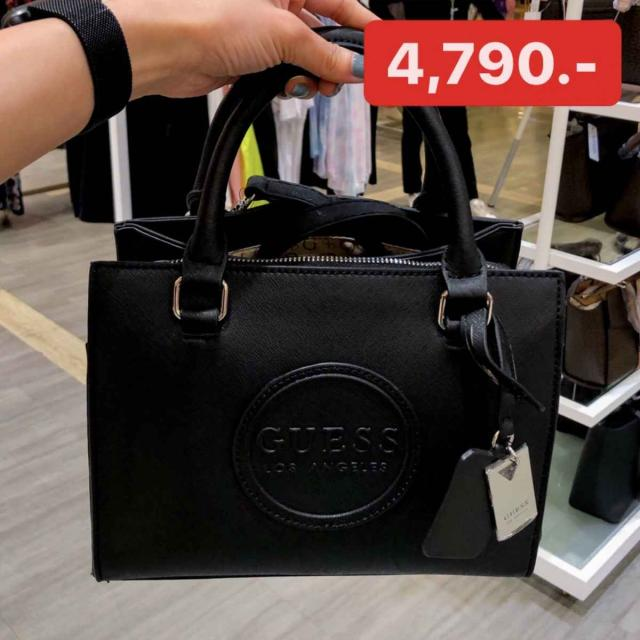Handbag: (90, 155, 564, 580)
